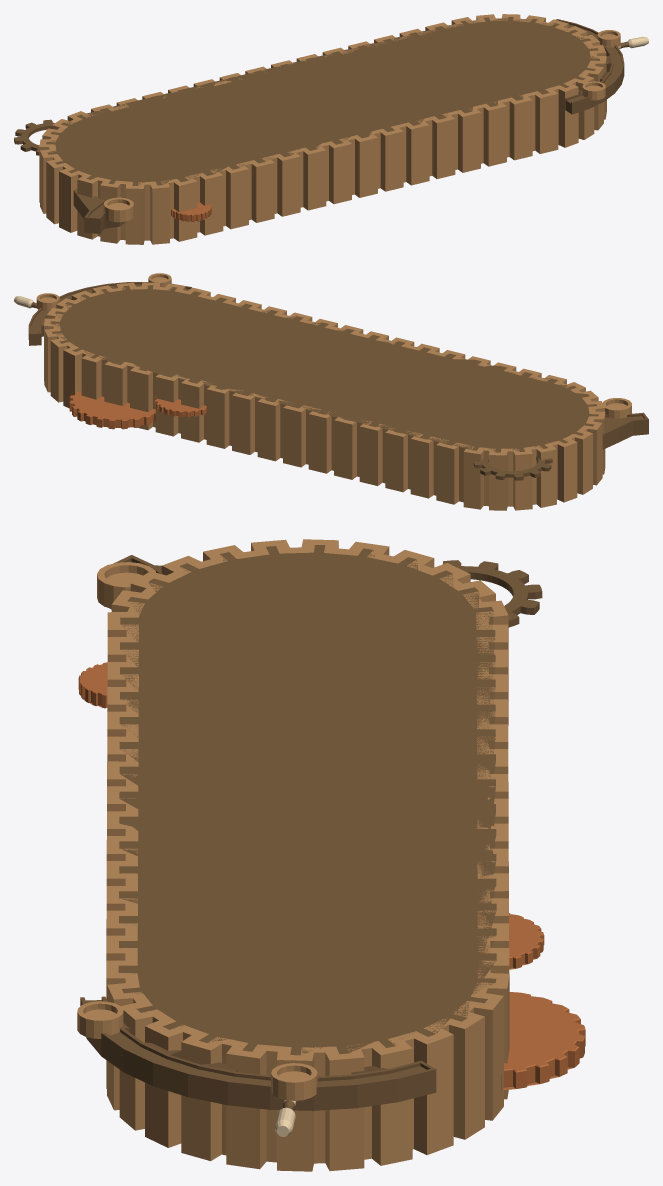
File: PlayButton.fbx
The picture shows the model from 3 angles, top to bottom: view 1: azimuth 30°, elevation 25°; view 2: azimuth 150°, elevation 25°; view 3: azimuth 270°, elevation 25°; orthographic projection. The views are drawn at different scales.
Visible parts, largest first — view 1: GearBig.025; view 2: GearBig.025; view 3: GearBig.025.
Boxes of the visible parts, box(x1,y1,x2,y2) form: GearBig.025: box(14, 14, 648, 244); GearBig.025: box(14, 273, 648, 510); GearBig.025: box(77, 539, 585, 1171).
Bounding box in the file's own units: 90.82 × 8.09 × 33.57.
